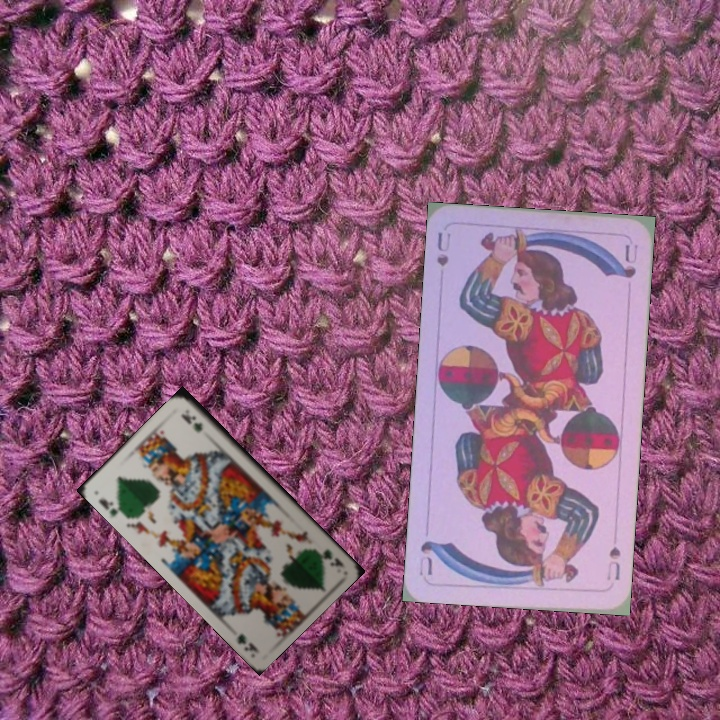GK: (310, 544, 346, 570), (94, 494, 129, 519)
SU: (433, 228, 454, 269), (603, 542, 623, 583)
